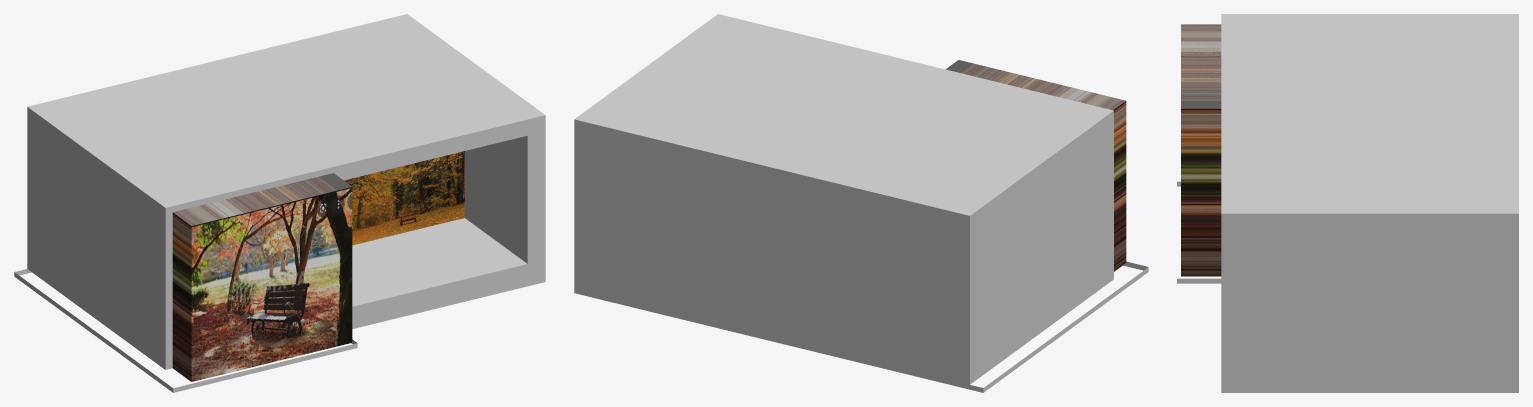
File: lms.glb
The picture shows the model from 3 angles, left to right: view 1: azimuth 30°, elevation 25°; view 2: azimuth 150°, elevation 25°; view 3: azimuth 270°, elevation 25°; orthographic projection. The views are drawn at different scales.
Visible parts, largest first — view 1: SketchUp, SketchUp.001, SketchUp.003, SketchUp.002; view 2: SketchUp, SketchUp.001; view 3: SketchUp, SketchUp.001.
Boxes of the visible parts, x1,y1,x2,y2 form: SketchUp: (14, 14, 545, 392); SketchUp.001: (172, 173, 352, 381); SketchUp.003: (352, 135, 527, 306); SketchUp.002: (344, 151, 464, 245); SketchUp: (574, 14, 1148, 392); SketchUp.001: (946, 60, 1126, 271); SketchUp: (1177, 14, 1518, 392); SketchUp.001: (1181, 24, 1221, 276).
Bounding box in the file's own units: 215 × 87.21 × 150.
3 materials, 2 textured.
